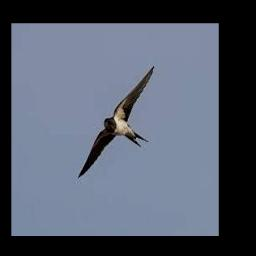Swallow: (78, 66, 156, 180)
